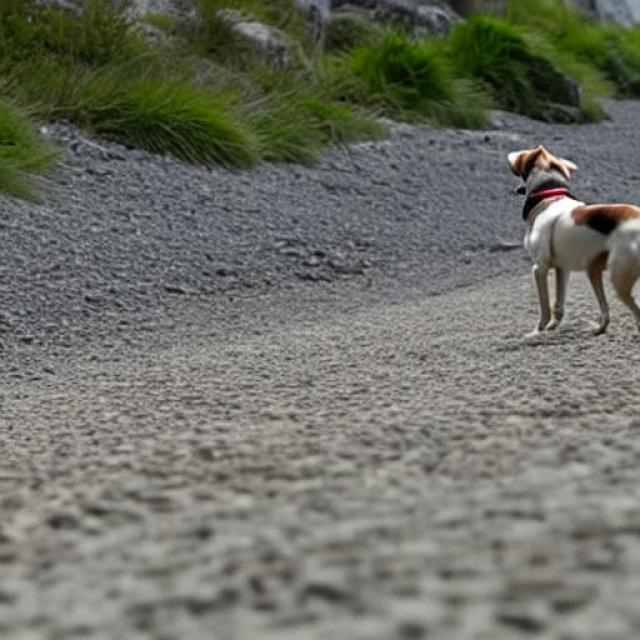Dog: (505, 144, 640, 341)
